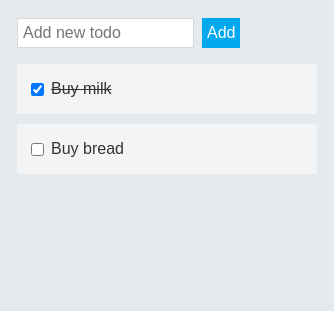
Test: TodoApp › creates item
Test adding using enter
Type "New todo" into the field with test id "todo-add-textbox". click: [106, 33]
box: 17,18 -> 194,48
Then press Enter
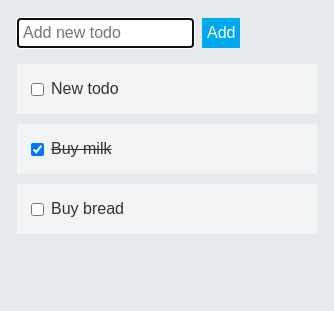
Check: the text "New todo" is shown, box 51,80 -> 119,97
Check: the list item with test id "todo-2" is shown, box 17,64 -> 317,114
Type "New todo 2" into the field with test id "todo-add-textbox". click: [106, 33]
box: 17,18 -> 194,48
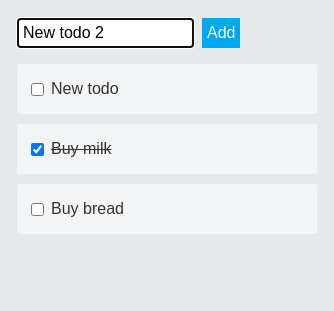
Click the button "Add". click: [221, 33]
box: 202,18 -> 240,48
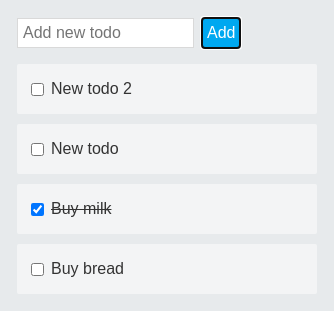
Check: the text "New todo 2" is shown, box 51,80 -> 132,97
Check: the list item with test id "todo-3" is shown, box 17,64 -> 317,114
